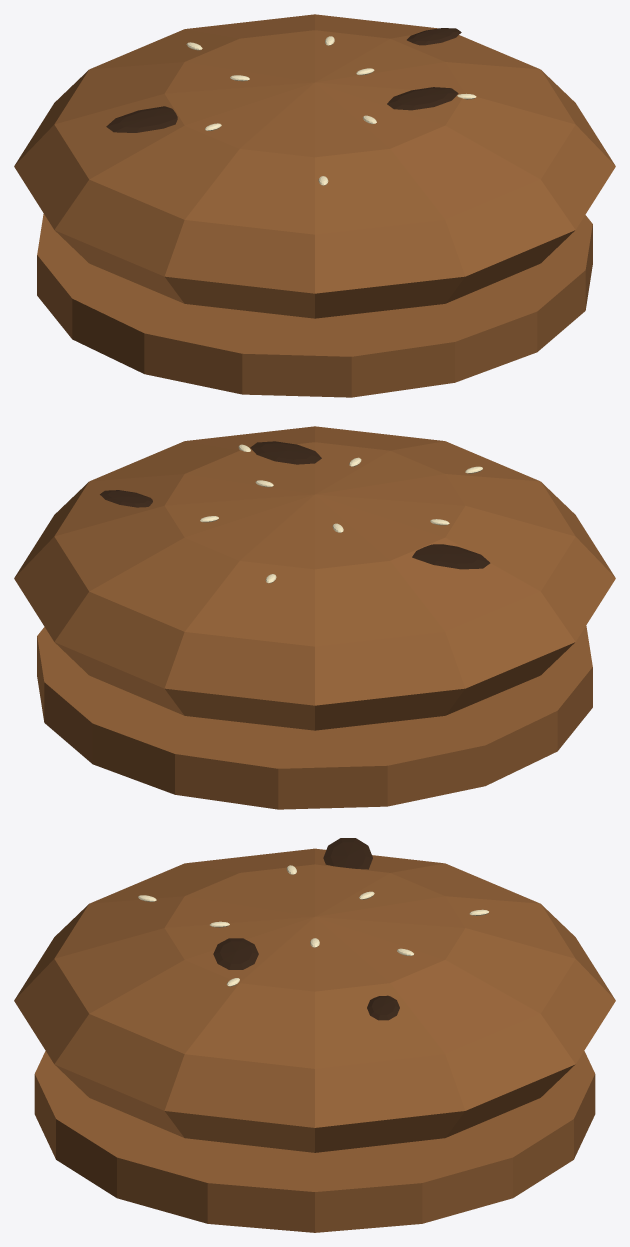
Rendered from Hamburger_Bun_LightBurnt.fbx.
3 renders of one model, top to bottom at view 1: azimuth 30°, elevation 25°; view 2: azimuth 150°, elevation 25°; view 3: azimuth 270°, elevation 25°, orthographic.
Visible parts, largest first — view 1: GPV2_Bread_LightBurnt_Upper_Bread, GPV2_Bread_LightBurnt_Lower_Bread, GPV2_Bread_LightBurnt; view 2: GPV2_Bread_LightBurnt_Upper_Bread, GPV2_Bread_LightBurnt_Lower_Bread, GPV2_Bread_LightBurnt; view 3: GPV2_Bread_LightBurnt_Upper_Bread, GPV2_Bread_LightBurnt_Lower_Bread, GPV2_Bread_LightBurnt.
Boxes of the visible parts, x1,y1,x2,y2 form: GPV2_Bread_LightBurnt_Upper_Bread: (14,14,615,318); GPV2_Bread_LightBurnt_Lower_Bread: (37,214,592,397); GPV2_Bread_LightBurnt: (106,28,476,185); GPV2_Bread_LightBurnt_Upper_Bread: (14,426,615,730); GPV2_Bread_LightBurnt_Lower_Bread: (37,626,592,809); GPV2_Bread_LightBurnt: (100,441,490,583); GPV2_Bread_LightBurnt_Upper_Bread: (14,848,615,1152); GPV2_Bread_LightBurnt_Lower_Bread: (34,1051,595,1232); GPV2_Bread_LightBurnt: (138,838,488,1020).
Size of the model in its own units: 0.29 by 0.1054 by 0.29.
